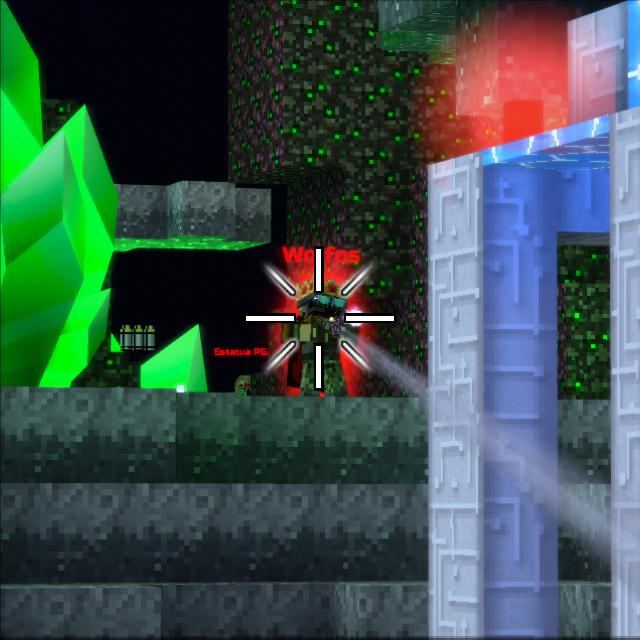Enemy: (279, 284, 358, 397)
